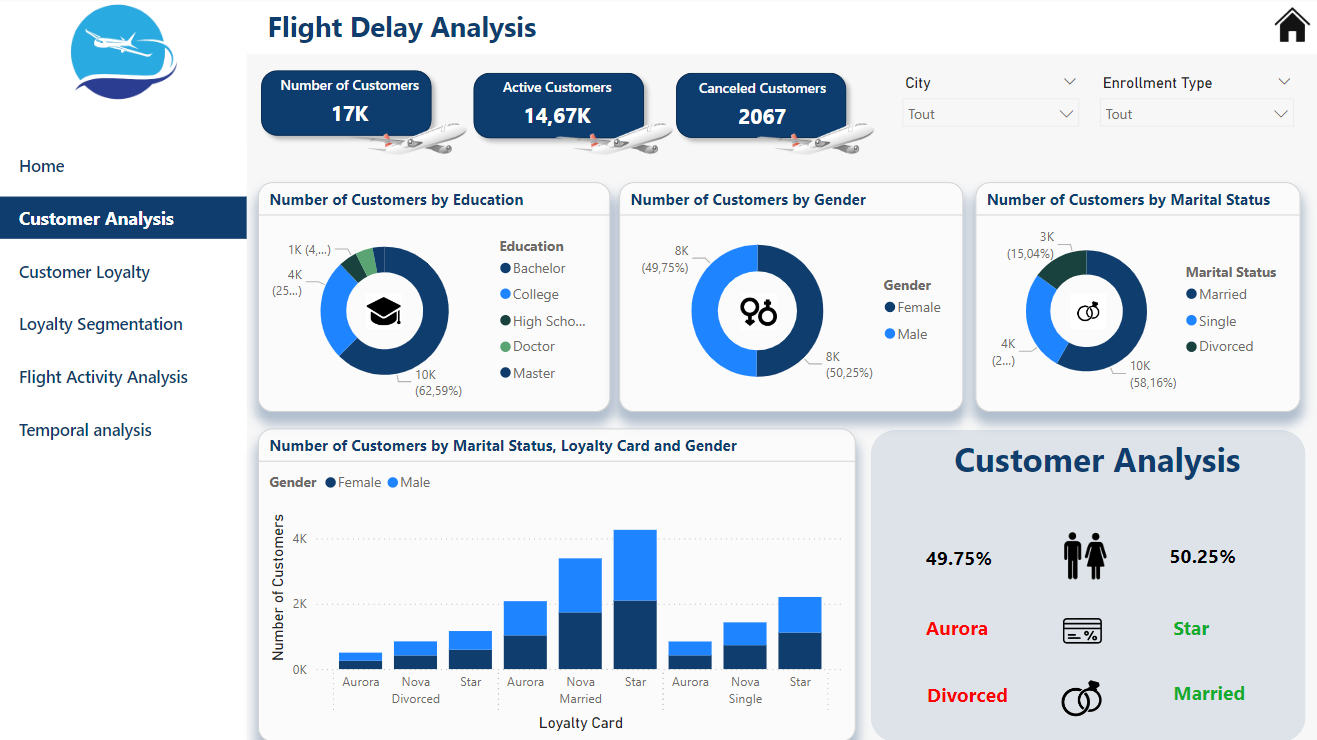

The page's visual inventory and layout, read from the dashboard file:
{"tool":"powerbi","page":{"name":"Customer Analysis","canvas":[1280,720],"ordinal":1},"visuals":[{"type":"shape","box":[245.1,62.4,182.5,81.2],"z":0},{"type":"card","title":"Number of Customers","fields":{"Values":["Measures Table.Nombre Total Clients"]},"box":[260.4,75.4,157.5,60],"z":1000},{"type":"shape","box":[449.5,64.8,182.5,81.2],"z":2000},{"type":"card","title":"Active Customers","fields":{"Values":["Measures Table.NombreClientsActifs"]},"box":[460.3,78.8,157.5,60],"z":3000},{"type":"shape","box":[645.4,65.1,182.2,80.8],"z":4000},{"type":"card","title":"Canceled Customers","fields":{"Values":["Measures Table.NombreClientsAnnulés"]},"box":[658.7,79.6,158,59.1],"z":5000},{"type":"donutChart","title":"Number of Customers by Education","fields":{"Category":["Customer Loyalty History.Education"],"Y":["Measures Table.Nombre Total Clients"]},"box":[250.8,180,340,221.5],"z":6000},{"type":"donutChart","title":"Number of Customers by Gender","fields":{"Category":["Customer Loyalty History.Gender"],"Y":["Measures Table.Nombre Total Clients"]},"box":[600,180,332.3,221.5],"z":7000},{"type":"donutChart","title":"Number of Customers by Marital Status","fields":{"Category":["Customer Loyalty History.Marital Status"],"Y":["Measures Table.Nombre Total Clients"]},"box":[943.1,180,313.8,221.5],"z":8000},{"type":"slicer","fields":{"Values":["Customer Loyalty History.City"]},"box":[862.7,70.1,191,56.7],"z":9000},{"type":"slicer","fields":{"Values":["Customer Loyalty History.Enrollment Type"]},"box":[1053.7,70.1,207.5,56.7],"z":10000},{"type":"image","box":[723.9,98.9,129.1,68.8],"z":11000},{"type":"shape","box":[0,0,240.1,720.4],"z":12000},{"type":"shape","box":[239.9,0,1040.1,56.3],"z":13000},{"type":"image","box":[706.7,282.7,53.8,45.2],"z":14000},{"type":"image","box":[348.1,282.7,47.1,44.2],"z":15000},{"type":"image","box":[1027.9,282.7,48.1,44.2],"z":16000},{"type":"columnChart","title":"Number of Customers by Marital Status, Loyalty Card and Gender","fields":{"Category":["Customer Loyalty History.Marital Status","Customer Loyalty History.Loyalty Card"],"Series":["Customer Loyalty History.Gender"],"Y":["Measures Table.Nombre Total Clients"]},"box":[250.7,417.3,576.7,302.7],"z":17000},{"type":"shape","box":[841.5,418.5,420,301.5],"z":18000},{"type":"textbox","box":[903.6,419.8,314.9,59.1],"z":19000},{"type":"textbox","box":[1125.6,522.4,124.3,45.8],"z":20000},{"type":"textbox","box":[890.8,524.6,118.5,46.2],"z":21000},{"type":"image","box":[1024.6,510.8,50.8,60],"z":22000},{"type":"image","box":[1023.1,587.7,47.7,50.8],"z":23000},{"type":"image","box":[1009.2,640,72.3,76.9],"z":24000},{"type":"textbox","box":[890.8,592.3,86.2,46.2],"z":25000},{"type":"textbox","box":[1129.2,592.3,104.6,46.2],"z":26000},{"type":"textbox","box":[891.6,656.3,102.5,44.6],"z":27000},{"type":"textbox","box":[1129.2,655.4,127.7,46.2],"z":28000},{"type":"image","box":[61.4,0,118.6,107.1],"z":29000},{"type":"image","box":[1218.6,0,61.4,55.7],"z":30000},{"type":"pageNavigator","box":[0,142.4,240.1,298],"z":31000},{"type":"image","box":[529.6,98.9,129.1,68.8],"z":32000},{"type":"image","box":[330.6,98.9,129.1,68.8],"z":33000}]}

Visuals, with their boxes on the page's 1280x720 design canvas (x1, y1, x2, y2). These are canvas units, not pixel positions in the 1317x740 screenshot, which may show the page scaled, cropped or inside an application window:
shape: detection(245, 62, 428, 144)
"Number of Customers" card: detection(260, 75, 418, 135)
shape: detection(450, 65, 632, 146)
"Active Customers" card: detection(460, 79, 618, 139)
shape: detection(645, 65, 828, 146)
"Canceled Customers" card: detection(659, 80, 817, 139)
"Number of Customers by Education" donutChart: detection(251, 180, 591, 402)
"Number of Customers by Gender" donutChart: detection(600, 180, 932, 402)
"Number of Customers by Marital Status" donutChart: detection(943, 180, 1257, 402)
slicer - Customer Loyalty History.City: detection(863, 70, 1054, 127)
slicer - Customer Loyalty History.Enrollment Type: detection(1054, 70, 1261, 127)
image: detection(724, 99, 853, 168)
shape: detection(0, 0, 240, 720)
shape: detection(240, 0, 1280, 56)
image: detection(707, 283, 760, 328)
image: detection(348, 283, 395, 327)
image: detection(1028, 283, 1076, 327)
"Number of Customers by Marital Status, Loyalty Card and Gender" columnChart: detection(251, 417, 827, 720)
shape: detection(842, 418, 1262, 720)
textbox: detection(904, 420, 1218, 479)
textbox: detection(1126, 522, 1250, 568)
textbox: detection(891, 525, 1009, 571)
image: detection(1025, 511, 1075, 571)
image: detection(1023, 588, 1071, 638)
image: detection(1009, 640, 1082, 717)
textbox: detection(891, 592, 977, 638)
textbox: detection(1129, 592, 1234, 638)
textbox: detection(892, 656, 994, 701)
textbox: detection(1129, 655, 1257, 702)
image: detection(61, 0, 180, 107)
image: detection(1219, 0, 1280, 56)
pageNavigator: detection(0, 142, 240, 440)
image: detection(530, 99, 659, 168)
image: detection(331, 99, 460, 168)
